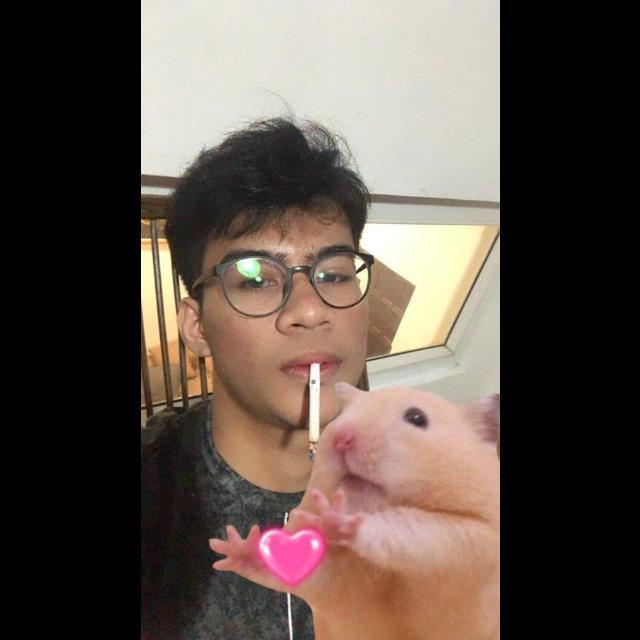rokok: (303, 362, 331, 463)
